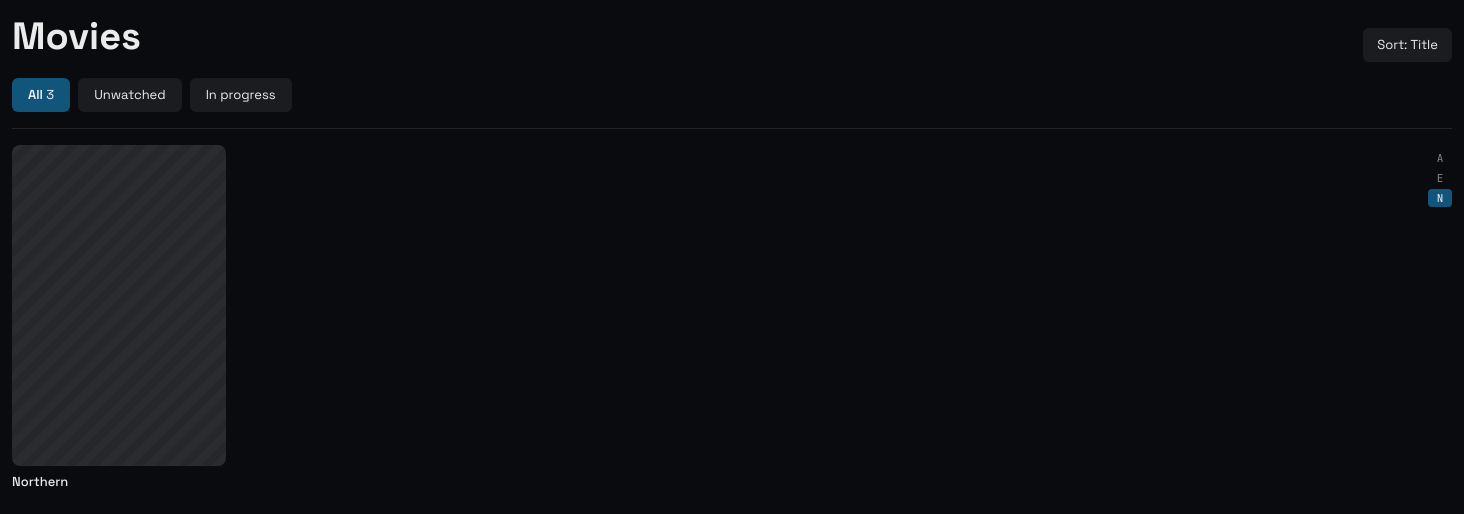
LibraryScreen › shows matching earlier titles when a watch filter is applied after a letter jump
This screenshot has width=1464, height=514.
Expected: the text "Northern" is shown, left=12, top=473, right=68, bottom=490
Click the button "Unwatched" at (130, 95), box left=78, top=78, right=182, bottom=112
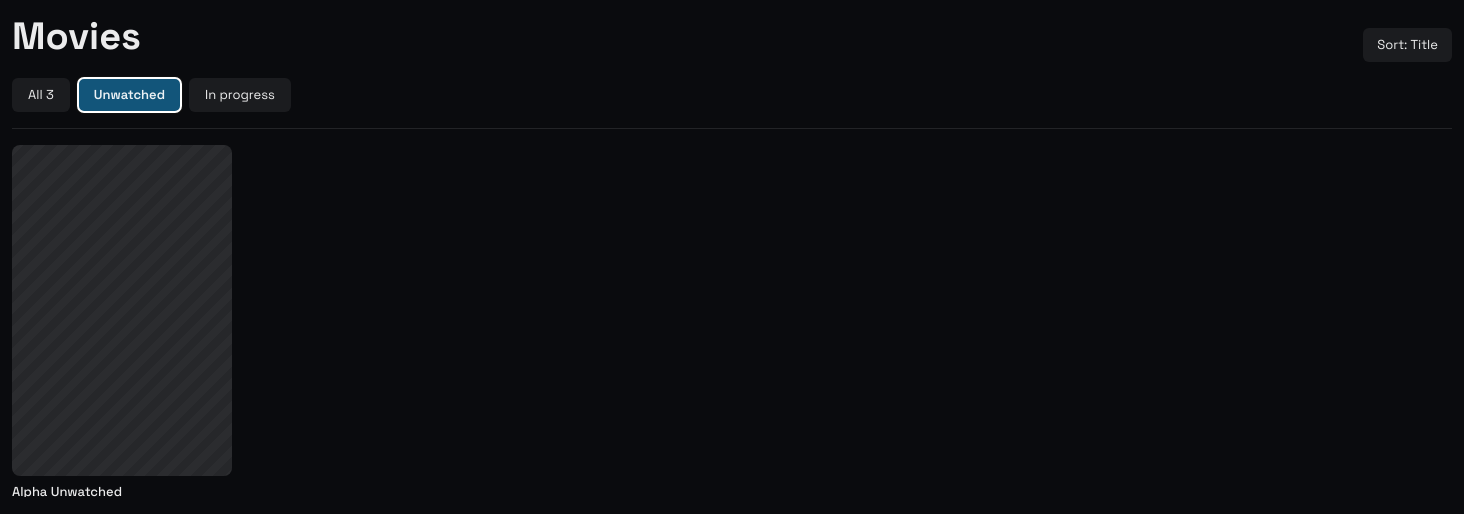
Expected: the text "Alpha Unwatched" is shown, left=12, top=483, right=122, bottom=497
